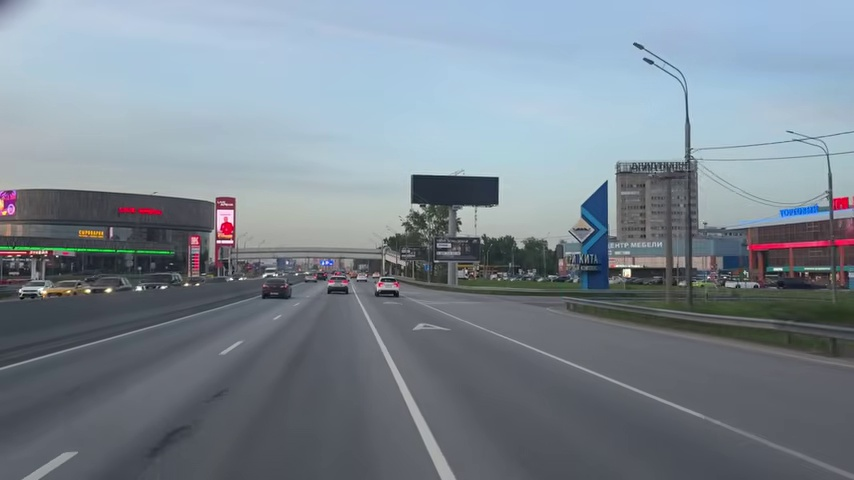apagada: (629, 39, 655, 71), (629, 38, 648, 56)
